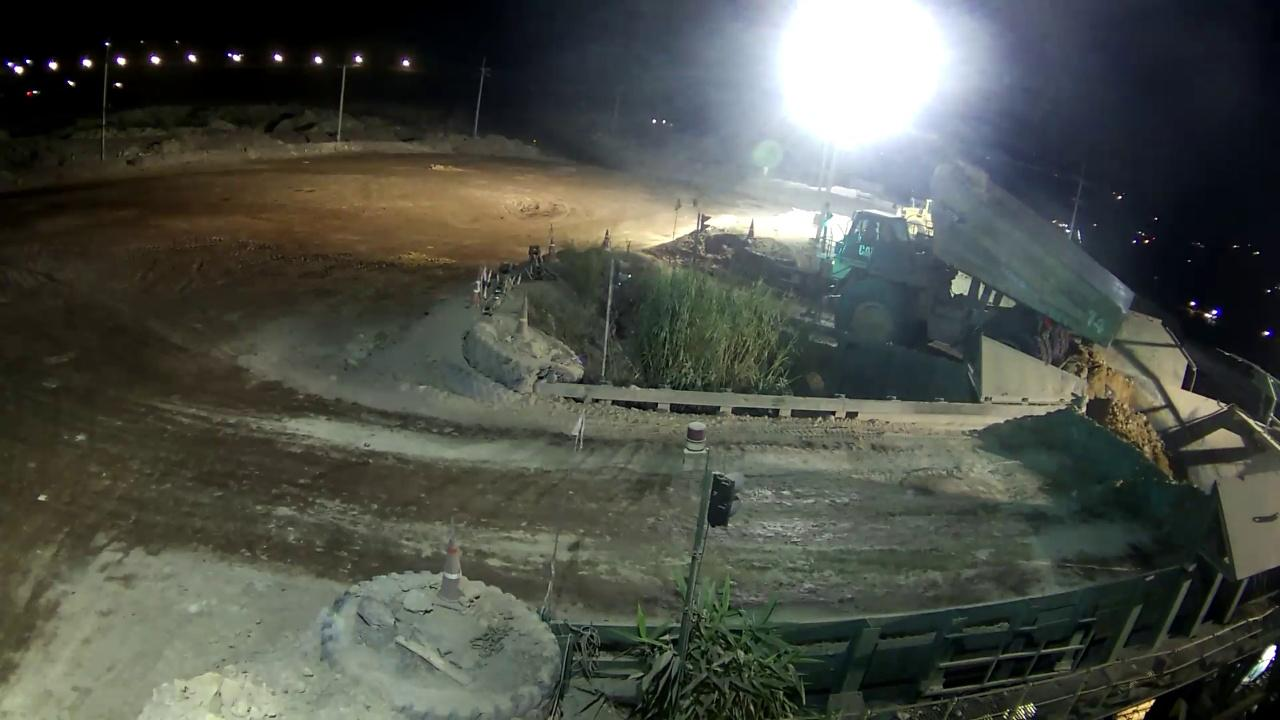dumping_soil: (824, 127, 1140, 388)
tail_number: (1082, 306, 1110, 340)
